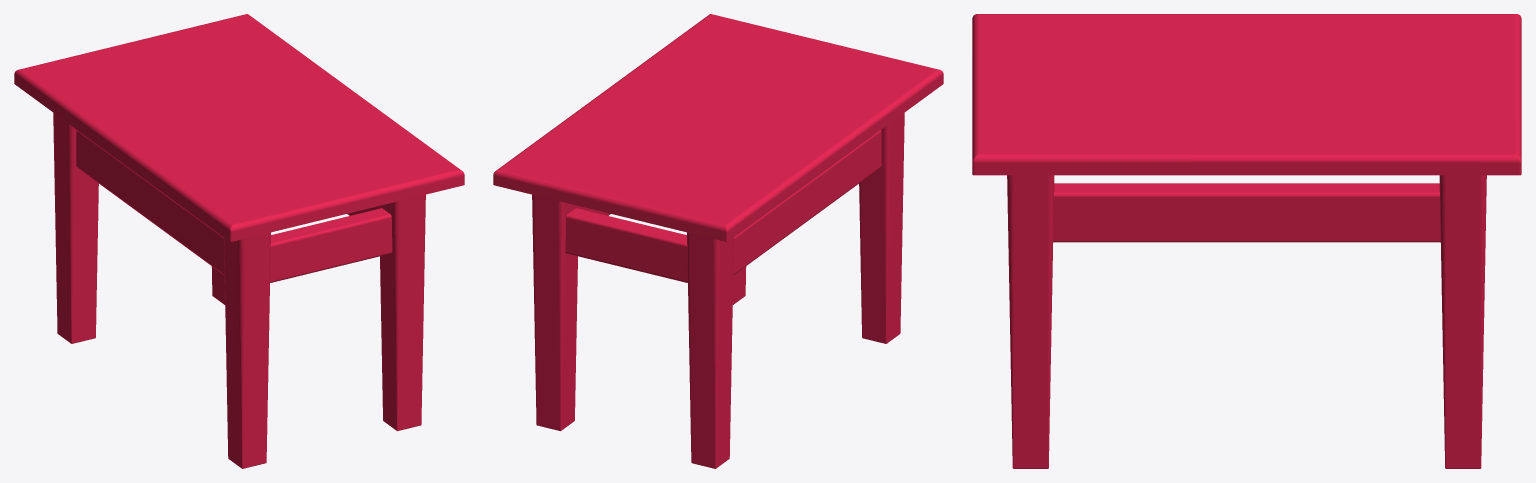
File: table2.gltf
3 views of the same model, side by side, from view 1: azimuth 30°, elevation 25°; view 2: azimuth 150°, elevation 25°; view 3: azimuth 270°, elevation 25° (orthographic). The views are drawn at different scales.
Visible parts, largest first — view 1: node_id5; view 2: node_id5; view 3: node_id5.
Boxes of the visible parts, box(x1,y1,x2,y2) form: node_id5: box(14, 14, 464, 468); node_id5: box(493, 14, 943, 468); node_id5: box(972, 14, 1521, 468).
Size of the model in its own units: 0.483 by 0.512 by 0.7728.
